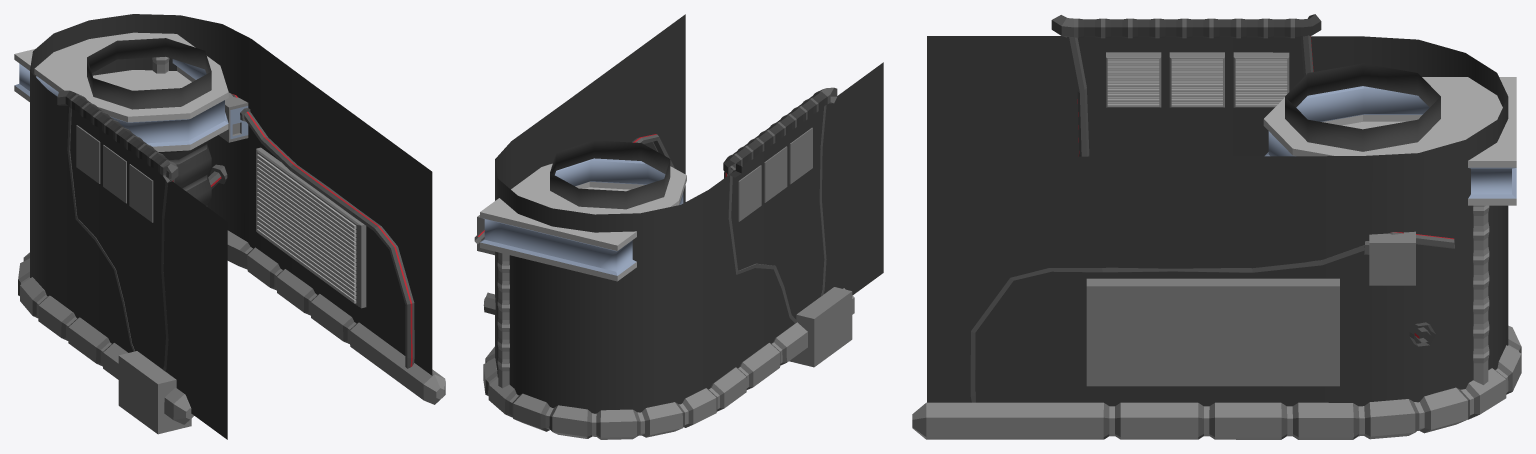
File: PipeStraight01.glb
3 views of the same model, side by side, from view 1: azimuth 30°, elevation 25°; view 2: azimuth 150°, elevation 25°; view 3: azimuth 270°, elevation 25° (orthographic). The views are drawn at different scales.
Parts seen in each view (by area): view 1: straight.001; view 2: straight.001; view 3: straight.001.
Part boxes in pixels (box(x1,y1,x2,y2)): straight.001: box(14, 14, 445, 439); straight.001: box(474, 14, 883, 439); straight.001: box(912, 14, 1521, 439).
Bounding box in the file's own units: 2.27 × 2.39 × 4.19.
Materials: 1 (1 with a texture image).
